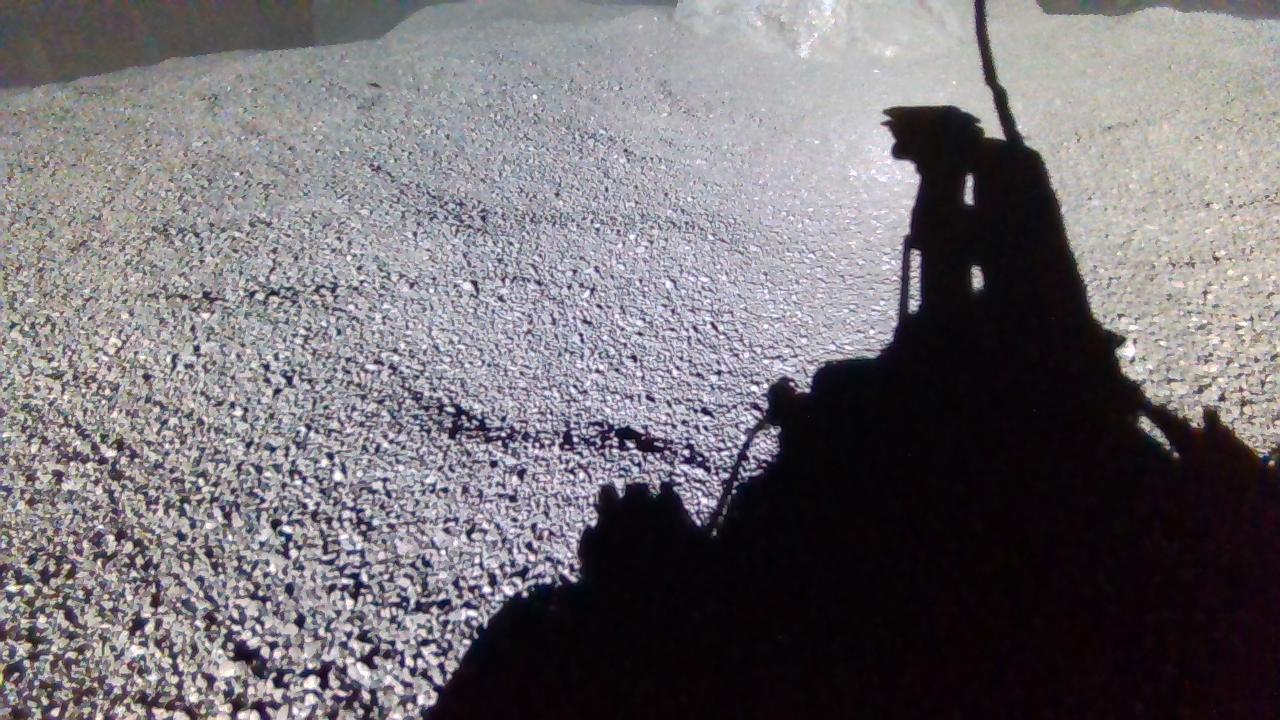rock: (675, 0, 964, 56)
